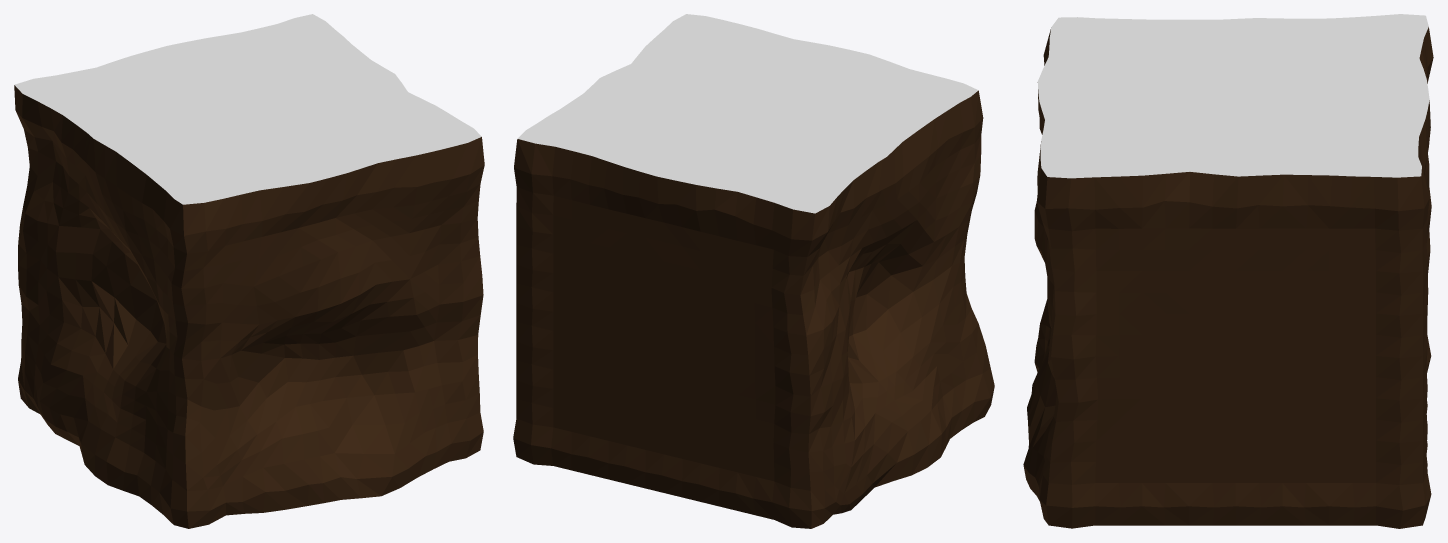
The model's file is Floating Island.fbx.
The picture shows the model from 3 angles, left to right: view 1: azimuth 30°, elevation 25°; view 2: azimuth 150°, elevation 25°; view 3: azimuth 270°, elevation 25°; orthographic projection. The views are drawn at different scales.
Visible parts, largest first — view 1: Ground; view 2: Ground; view 3: Ground.
Boxes of the visible parts, x1=… form: Ground: x1=14, y1=14, x2=484, y2=528; Ground: x1=513, y1=14, x2=994, y2=528; Ground: x1=1023, y1=14, x2=1433, y2=528.
Size of the model in its own units: 43.02 by 42.08 by 42.92.
